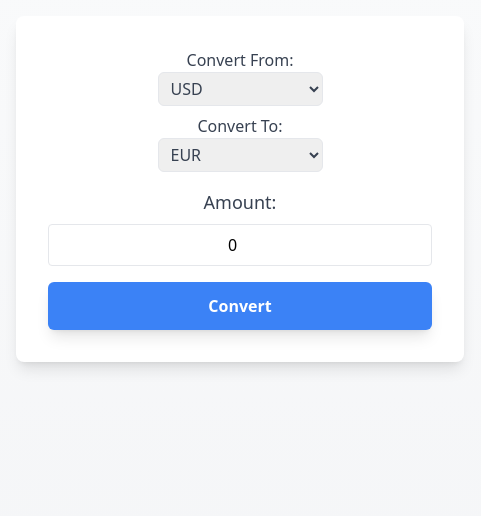
Test: CurrencyConverter › performs currency conversion when form is submitted
The width and height of the screenshot is (481, 516).
Replace the text in the number field labelled "Amount:" with "100" at (240, 245), box [48,224,432,266]
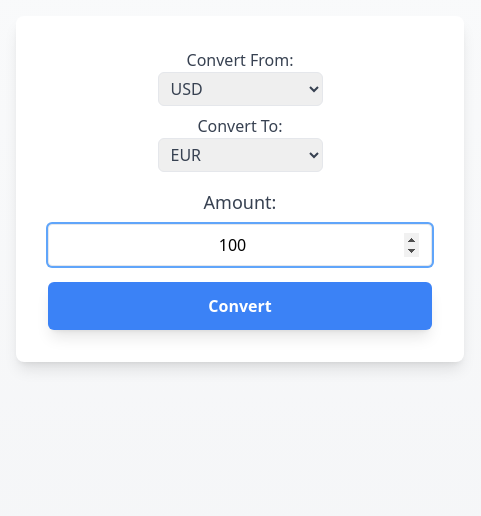
Click the button "Convert".
click(240, 306)  # box [48,282,432,330]
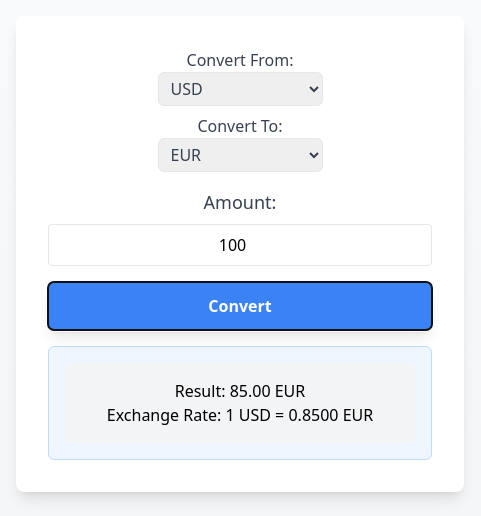
Expected: the text "Result: 85.00 EUR" is shown, [175,380,305,402]
Expected: the text "Exchange Rate: 1 USD = 0.8500 EUR" is shown, [107,404,373,426]
